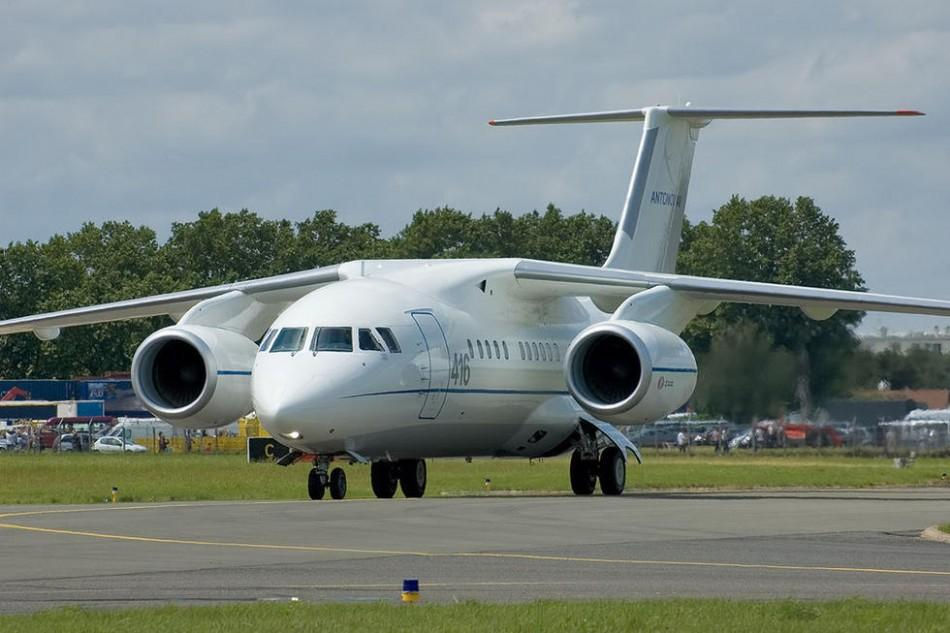airplane: (1, 104, 945, 498)
